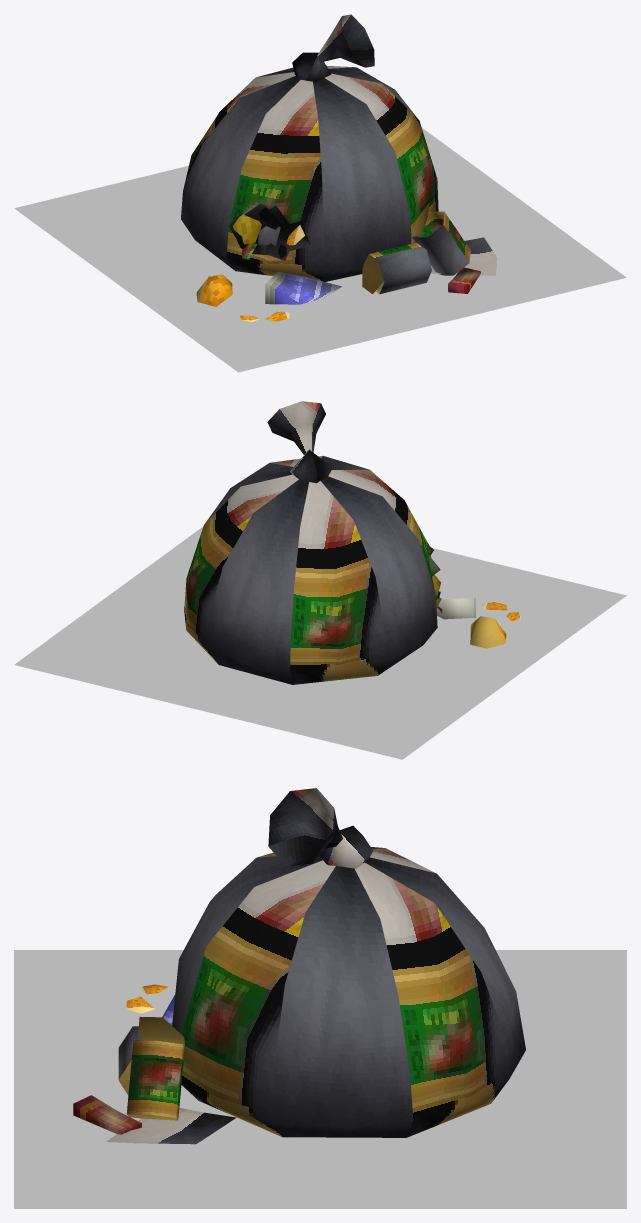
Rendered from F2_Item_Dust_Plasticbag.dae.
3 renders of one model, top to bottom at view 1: azimuth 30°, elevation 25°; view 2: azimuth 150°, elevation 25°; view 3: azimuth 270°, elevation 25°, orthographic. The views are drawn at different scales.
Visible parts, largest first — view 1: Dust_Plasticbag01_0_0_node, Dust_Plasticbag_Shadow_1_0_node; view 2: Dust_Plasticbag01_0_0_node, Dust_Plasticbag_Shadow_1_0_node; view 3: Dust_Plasticbag01_0_0_node, Dust_Plasticbag_Shadow_1_0_node.
Boxes of the visible parts, x1,y1,x2,y2 form: Dust_Plasticbag01_0_0_node: (181,14,497,321); Dust_Plasticbag_Shadow_1_0_node: (14,128,626,372); Dust_Plasticbag01_0_0_node: (184,401,520,684); Dust_Plasticbag_Shadow_1_0_node: (14,526,626,759); Dust_Plasticbag01_0_0_node: (73,788,525,1144); Dust_Plasticbag_Shadow_1_0_node: (14,950,626,1208).
Size of the model in its own units: 7.35 by 4.07 by 7.35.
